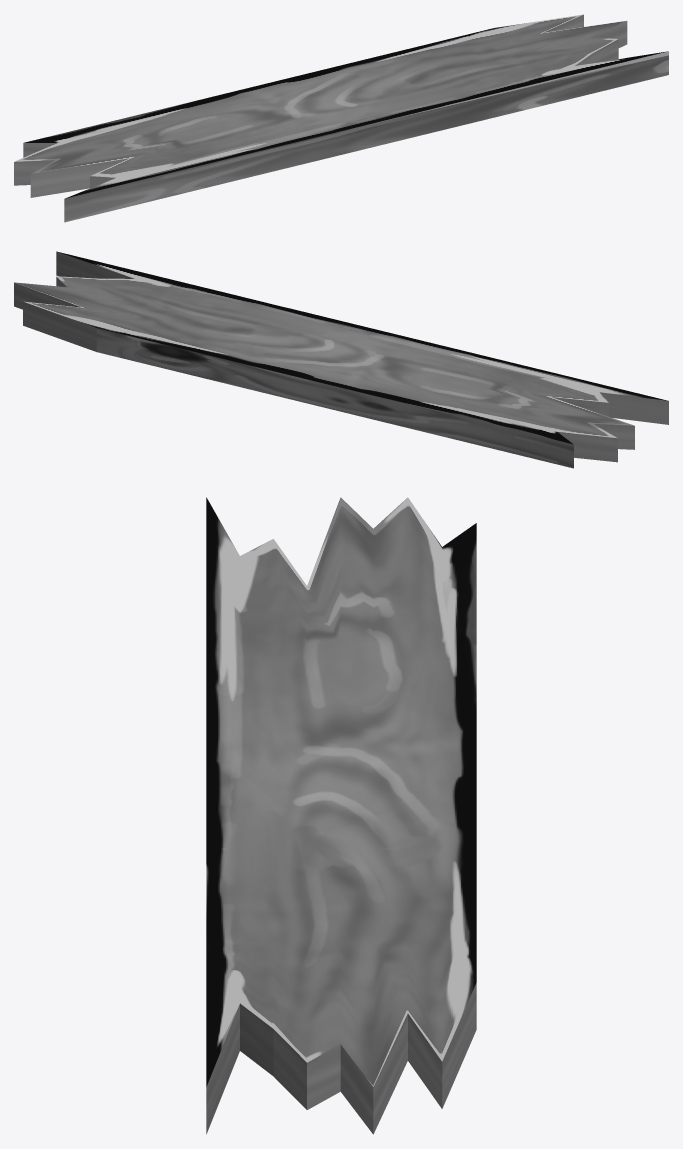
File: FBX_Plank_Broken_V2.fbx
The picture shows the model from 3 angles, top to bottom: view 1: azimuth 30°, elevation 25°; view 2: azimuth 150°, elevation 25°; view 3: azimuth 270°, elevation 25°; orthographic projection. The views are drawn at different scales.
Parts seen in each view (by area): view 1: FBX_Plank_broken_v2; view 2: FBX_Plank_broken_v2; view 3: FBX_Plank_broken_v2.
Boxes of the visible parts, box(x1,y1,x2,y2) form: FBX_Plank_broken_v2: box(14, 14, 668, 222); FBX_Plank_broken_v2: box(14, 251, 668, 468); FBX_Plank_broken_v2: box(206, 497, 476, 1134).
Size of the model in its own units: 424 by 15.92 by 81.96.
